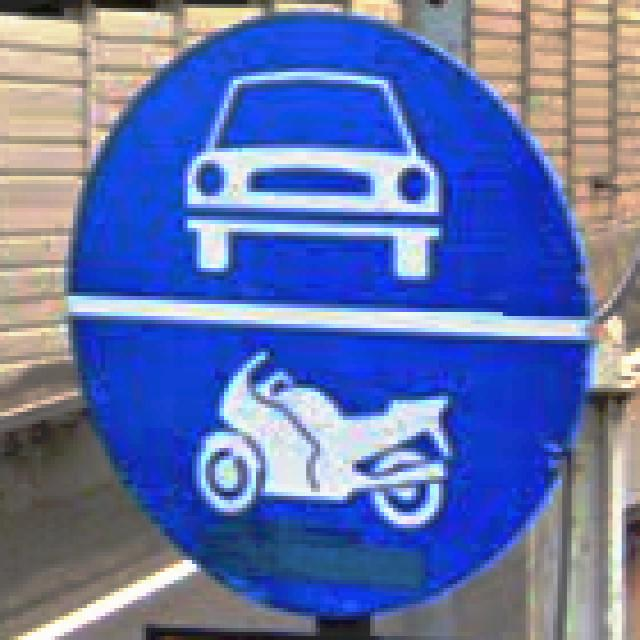carmotorcycle: (59, 8, 599, 616)
